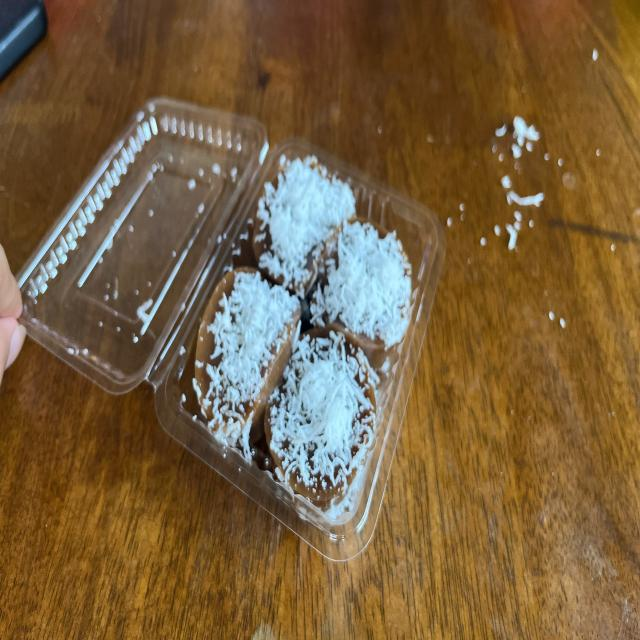Kuih lompang: (265, 329, 378, 509), (194, 267, 301, 447), (310, 218, 411, 369), (254, 156, 355, 298)
